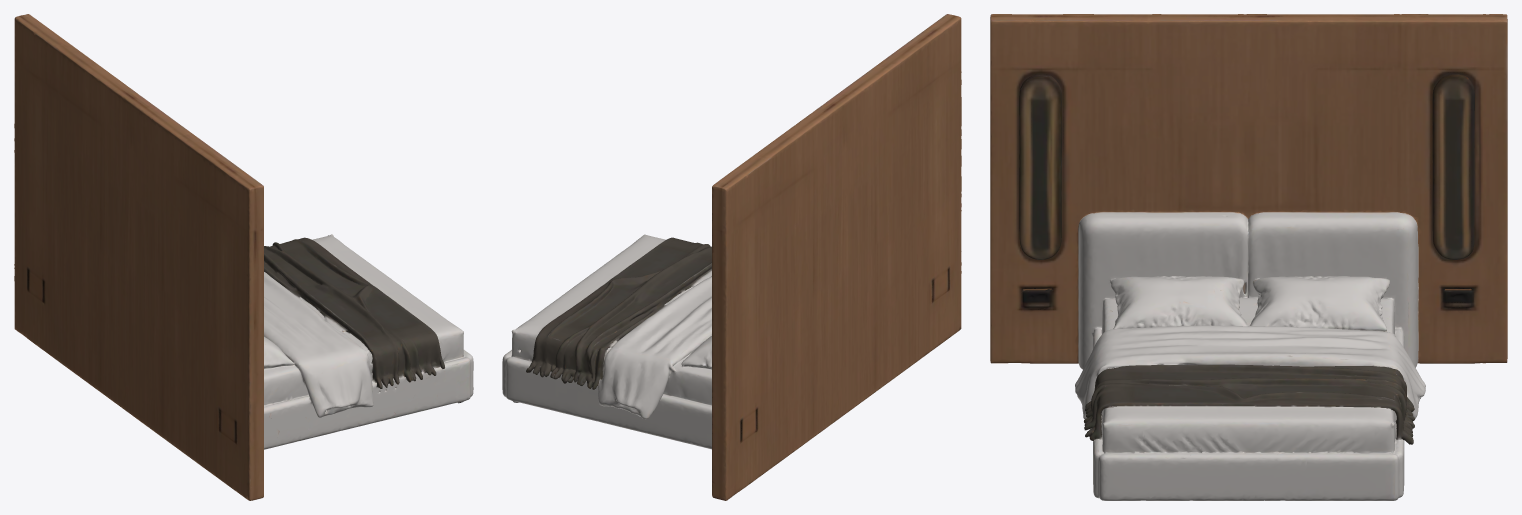
File: Modern Platform Bed with Integrated Wood Panel Headboard and Lighting [9XsgOF].glb
3 views of the same model, side by side, from view 1: azimuth 30°, elevation 25°; view 2: azimuth 150°, elevation 25°; view 3: azimuth 270°, elevation 25° (orthographic). The views are drawn at different scales.
Visible parts, largest first — view 1: world; view 2: world; view 3: world.
Part boxes in pixels (box(x1,y1,x2,y2)): world: box(14, 14, 473, 500); world: box(502, 14, 961, 500); world: box(990, 14, 1507, 500).
Size of the model in its own units: 0.6804 by 0.7374 by 1.
Materials: 1 (1 with a texture image).
